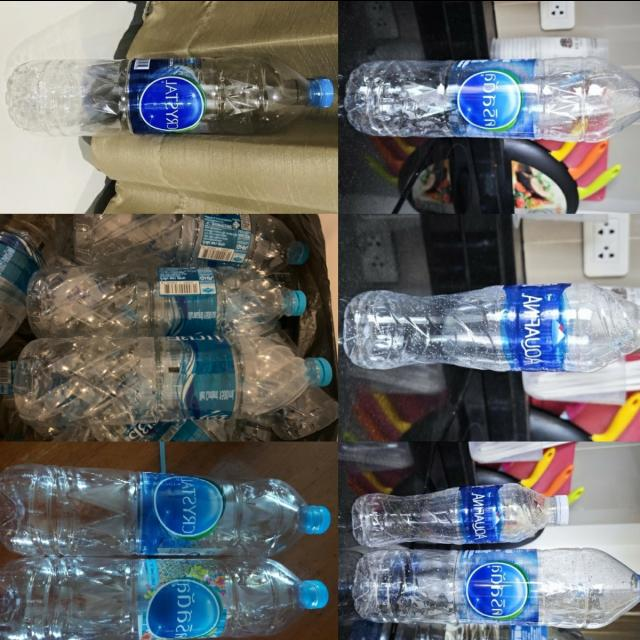plastik: (0, 463, 330, 556), (14, 335, 331, 425), (0, 556, 329, 640), (344, 281, 640, 371), (7, 54, 334, 135), (345, 56, 640, 141), (353, 547, 640, 627), (27, 265, 306, 336), (74, 213, 309, 272), (352, 483, 569, 546), (346, 620, 591, 640)
